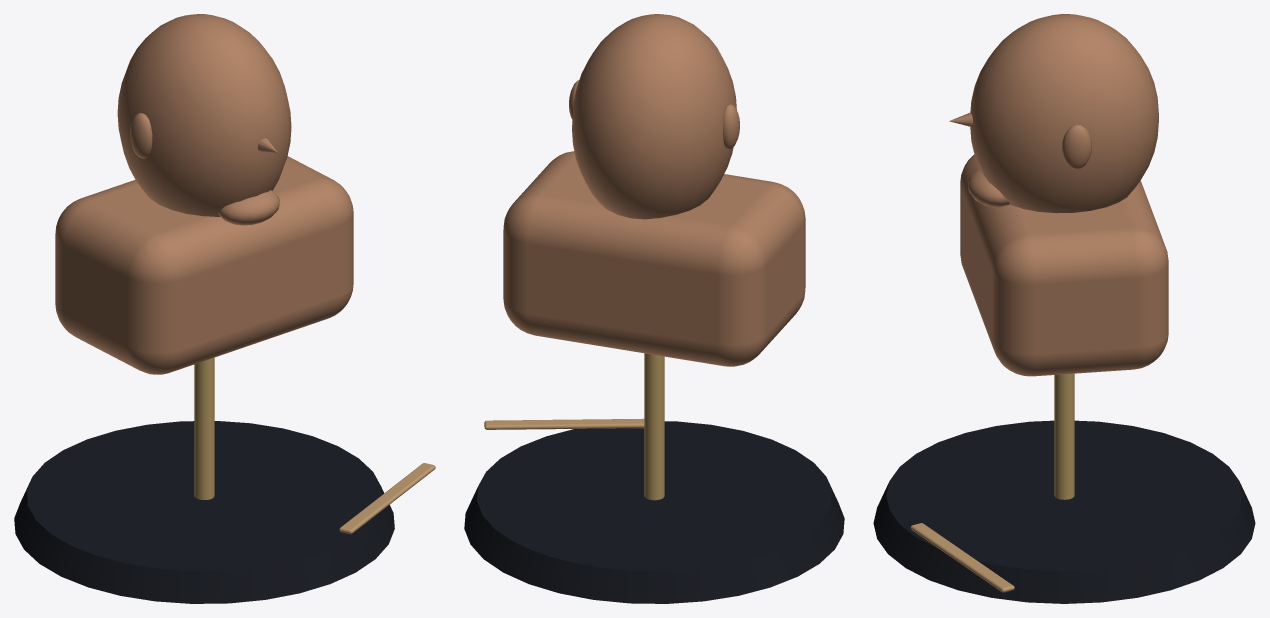
The model's file is atelier-artist-sculpture-oak.glb.
3 views of the same model, side by side, from view 1: azimuth 30°, elevation 25°; view 2: azimuth 150°, elevation 25°; view 3: azimuth 270°, elevation 25° (orthographic).
Bounding box in the file's own units: 0.3321 × 0.4362 × 0.3.
